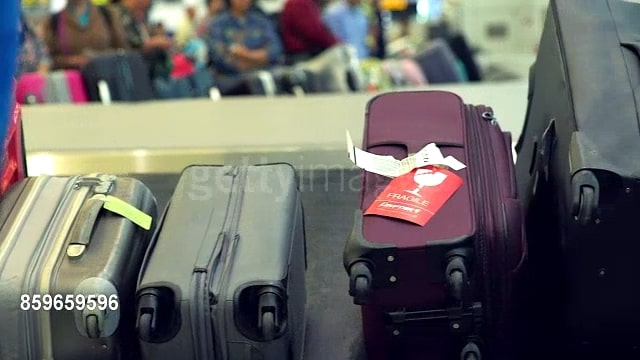baggage: (342, 92, 532, 360), (518, 7, 640, 359), (135, 159, 311, 360), (5, 172, 161, 360)
